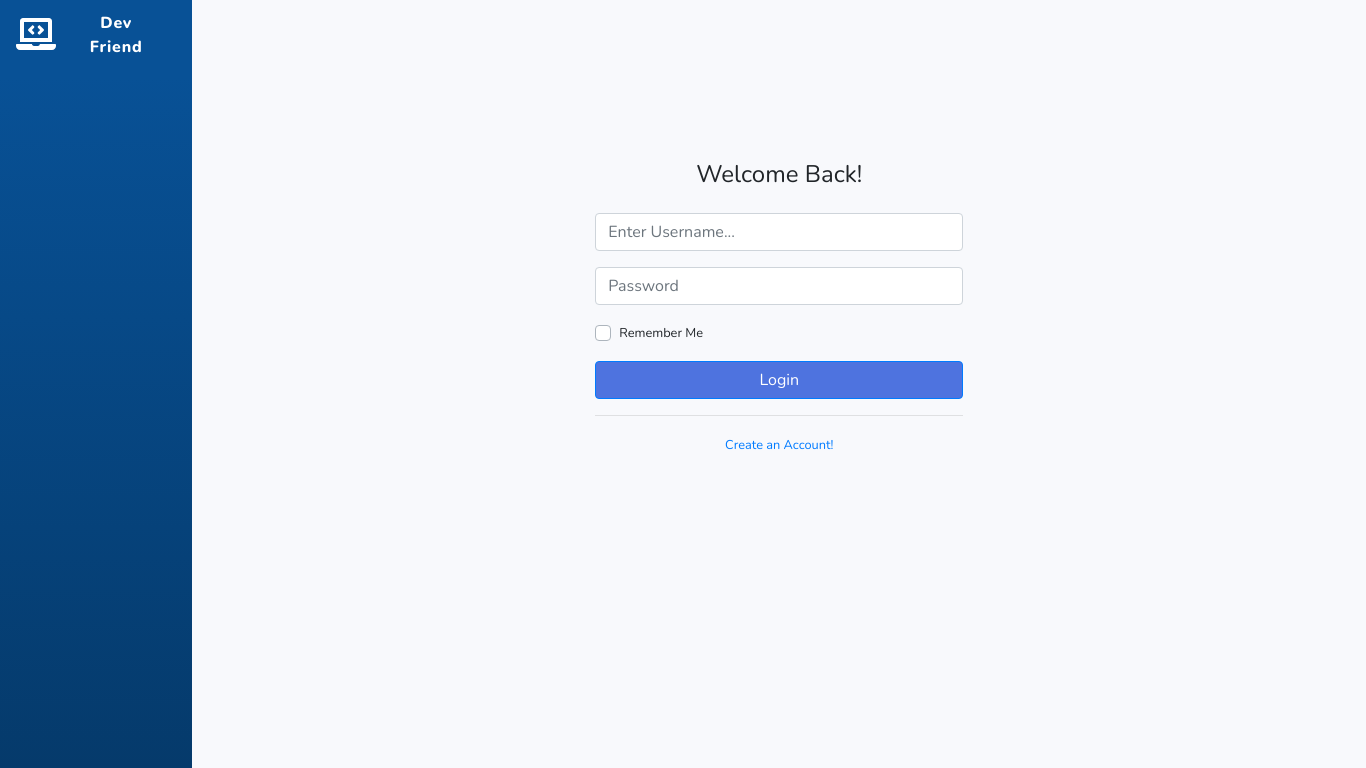
Test: Login › Check wrong username/password
The width and height of the screenshot is (1366, 768).
In the field with placeholder "Enter Username...": (779, 232) [595, 213, 963, 251], type "alex"
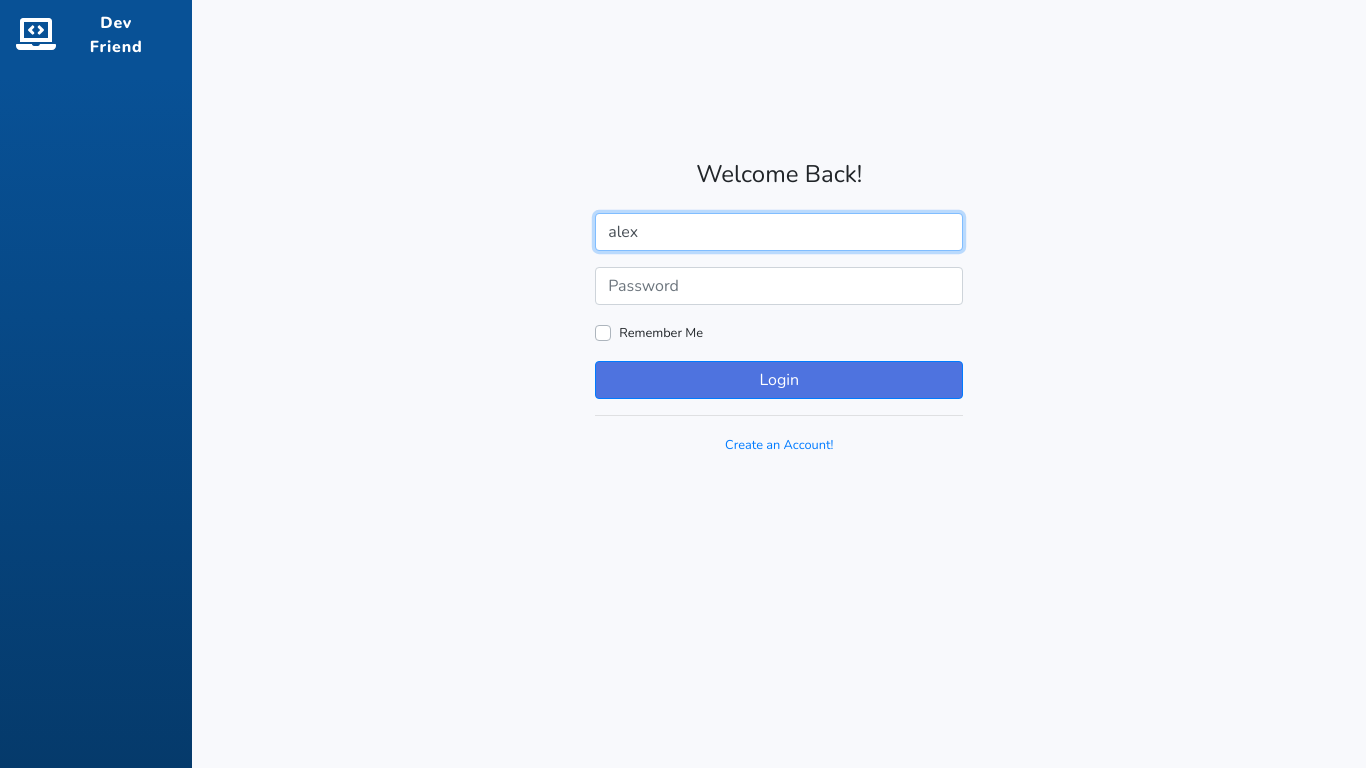
In the password field with placeholder "Password": (779, 286) [595, 267, 963, 305], type "alex"
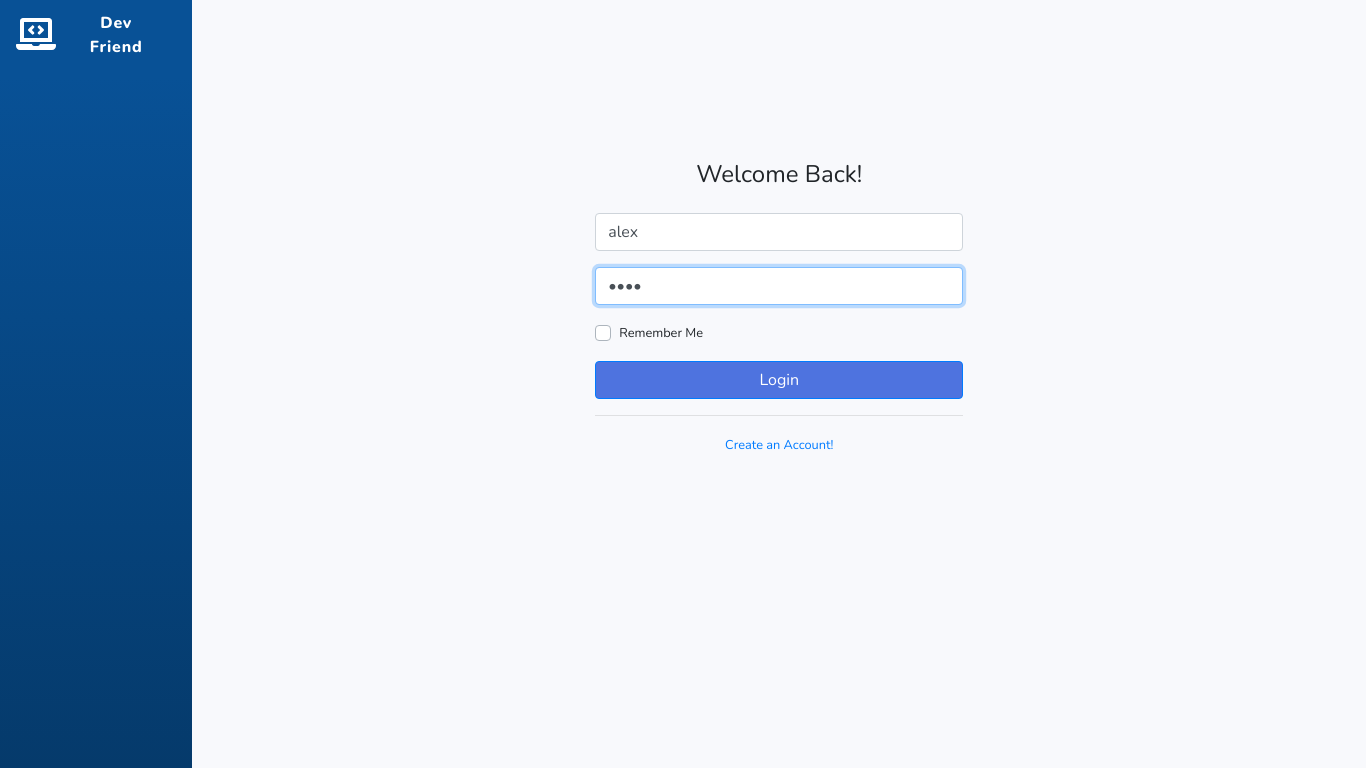
Click the button "Login": click(779, 380) [595, 361, 963, 399]
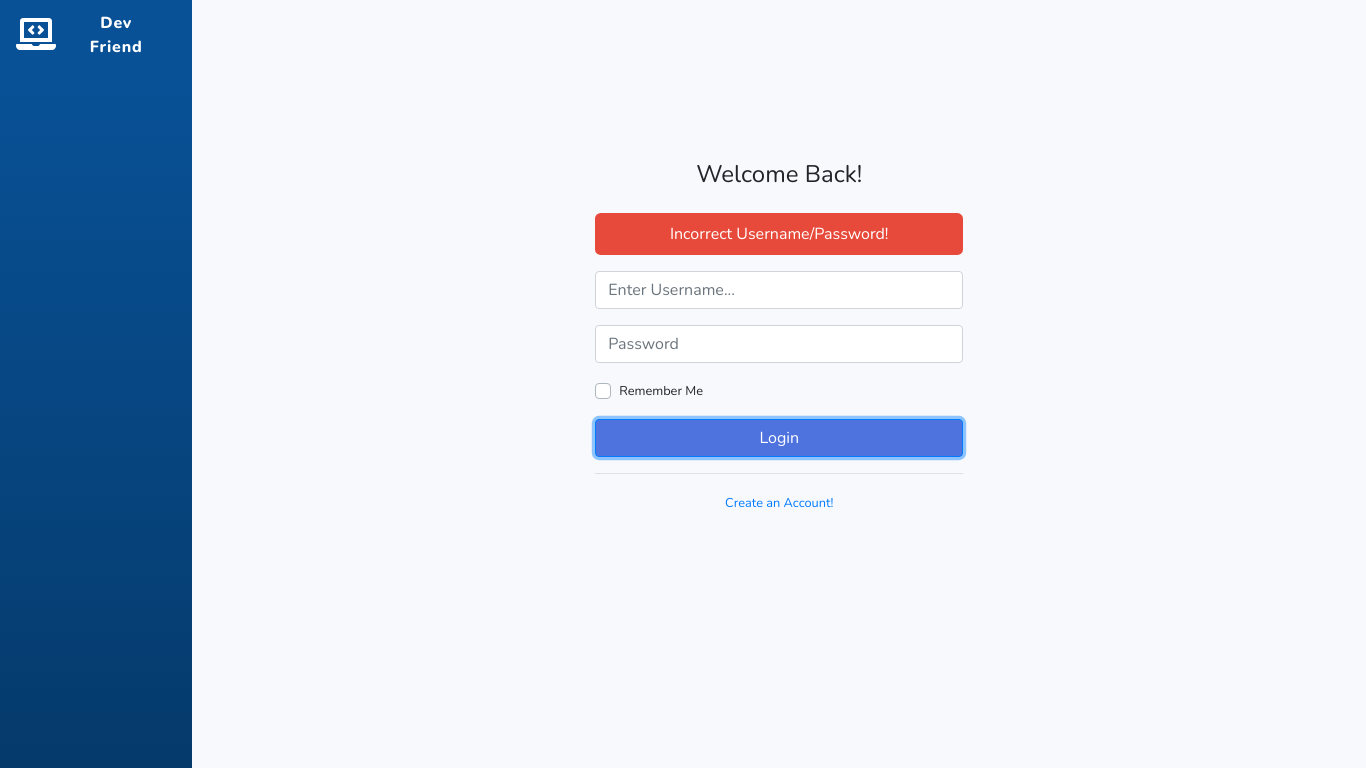
Expected: the text "Incorrect Username/Password!" is shown, [595, 213, 963, 255]
